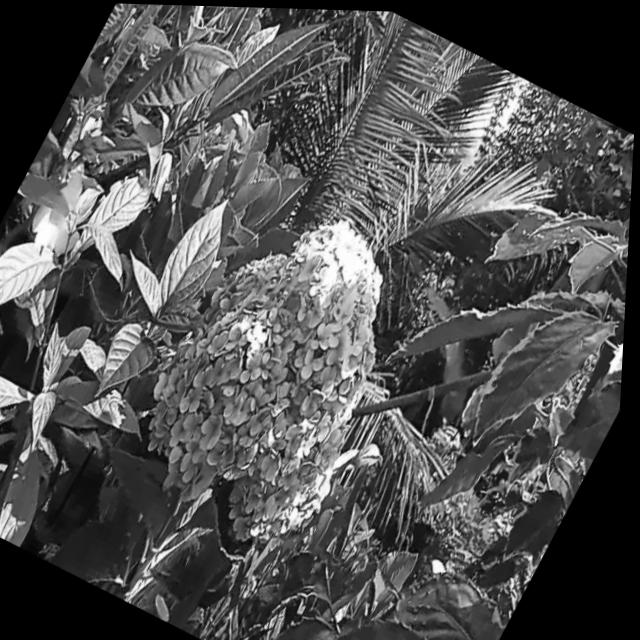Flower: (116, 174, 454, 571)
